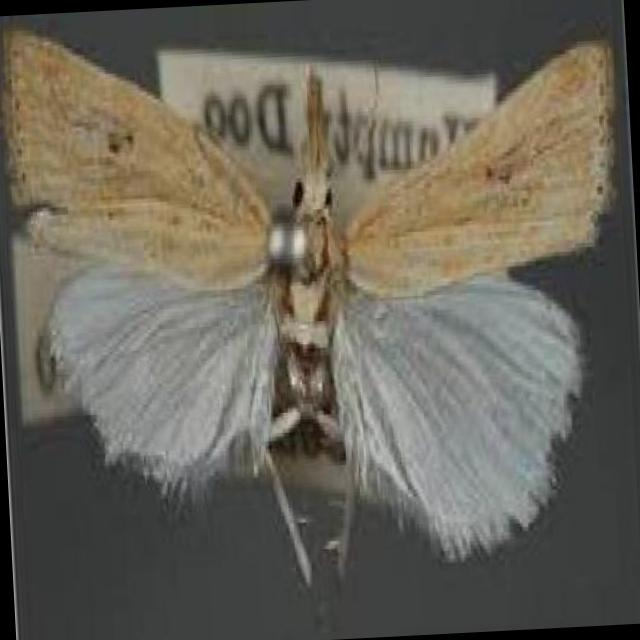stem-borer: (3, 17, 616, 589)
